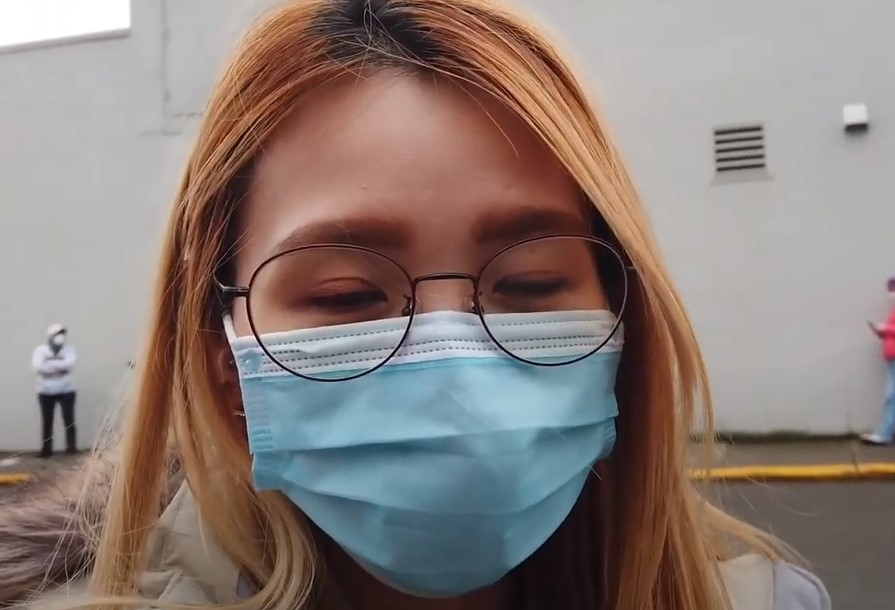face_with_mask: (192, 3, 644, 604)
